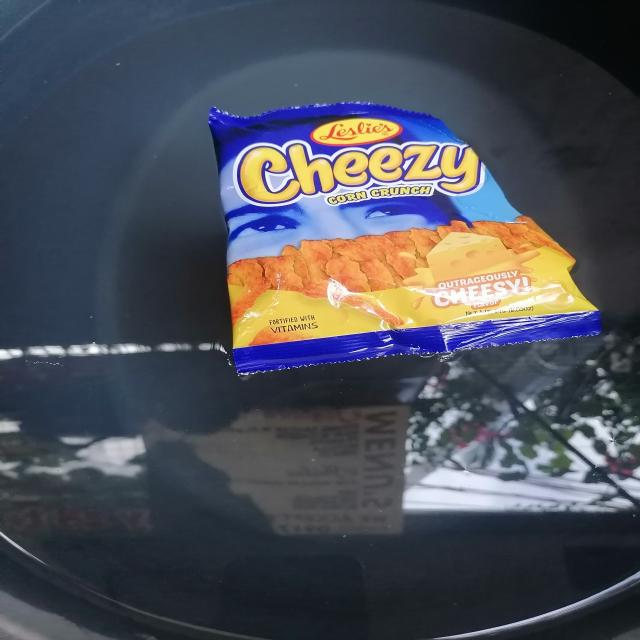Plastic Wrapper: (186, 80, 616, 394)
